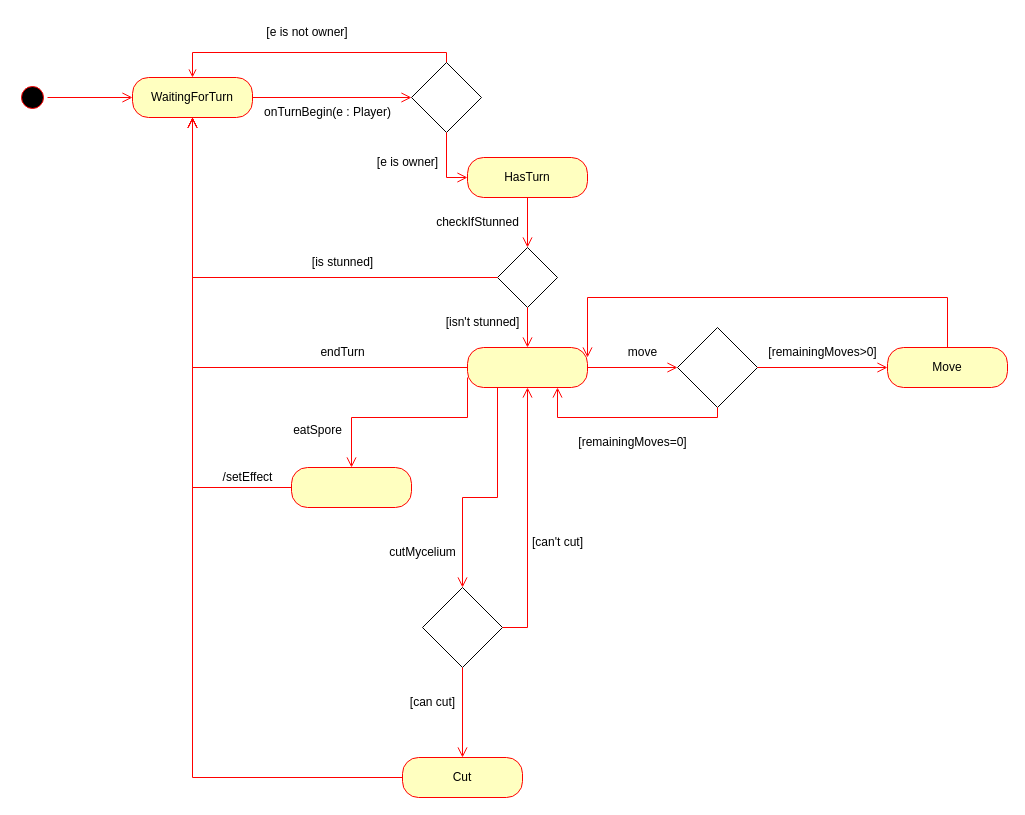
Image size: 1025x815. Some labels were removed from this diagram. Each missing label, with the centre of its shape:
"Eat" goes at point 351,487.
"WaitForInput" goes at point 527,367.
